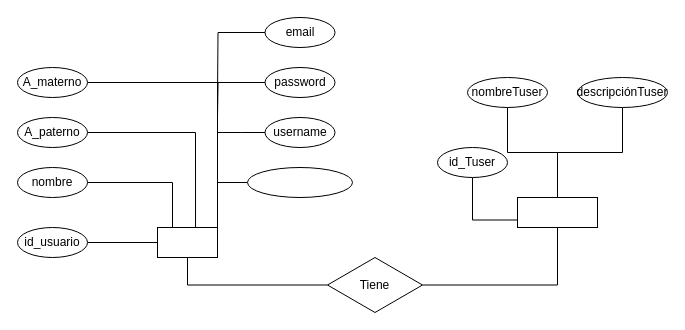
Some shapes in this 685 by 330 pixel diagram are drawn without their labels. The shapes that lost their labels are listed below. From the top down, each one's centre as x and y in pixels, then its label:
point 299,182: id_tipodeusuario
point 557,212: Tipo user
point 187,242: usuario
